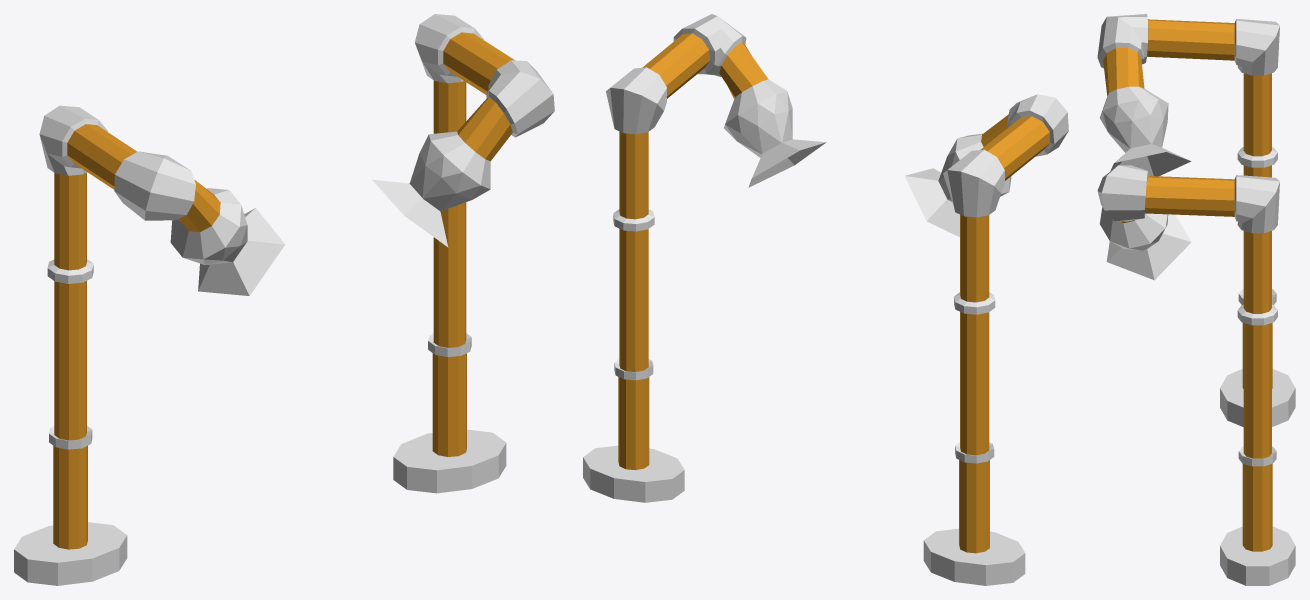
The model's file is PAINTERfbx.fbx.
The picture shows the model from 3 angles, left to right: view 1: azimuth 30°, elevation 25°; view 2: azimuth 150°, elevation 25°; view 3: azimuth 270°, elevation 25°; orthographic projection. The views are drawn at different scales.
Visible parts, largest first — view 1: PAINTER; view 2: PAINTER; view 3: PAINTER.
Part boxes in pixels (x1,y1,x2,y2): PAINTER: (14,14,554,585); PAINTER: (583,14,1068,585); PAINTER: (1097,14,1295,585).
Size of the model in its own units: 587 by 551 by 247.
